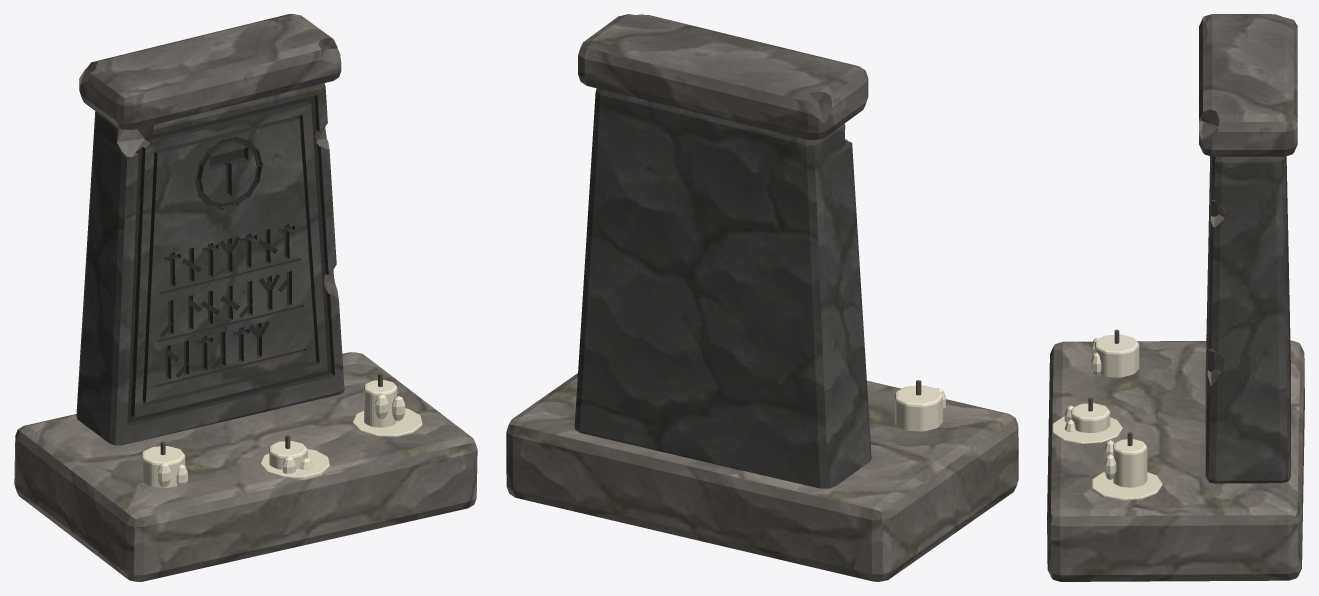
The model's file is ancestor_stone_small.glb.
The picture shows the model from 3 angles, left to right: view 1: azimuth 30°, elevation 25°; view 2: azimuth 150°, elevation 25°; view 3: azimuth 270°, elevation 25°; orthographic projection. The views are drawn at different scales.
Parts seen in each view (by area): view 1: model; view 2: model; view 3: model.
Boxes of the visible parts, box(x1,y1,x2,y2) form: model: box(14, 14, 477, 581); model: box(506, 14, 1018, 581); model: box(1047, 14, 1304, 581).
Size of the model in its own units: 0.6254 by 0.7319 by 0.3919.
Materials: 7 (3 with a texture image).
